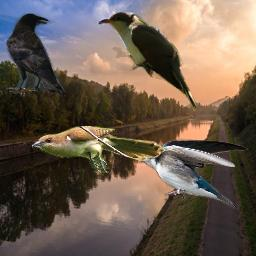Crow: (6, 13, 65, 97)
Cuckoo: (96, 12, 196, 112), (32, 126, 166, 173)
Swallow: (132, 138, 248, 209)
